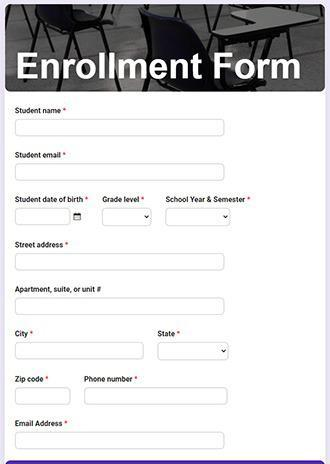dropdown: (158, 342, 230, 363), (165, 207, 232, 227), (101, 207, 154, 229)
icon: (74, 212, 84, 223)
input: (15, 252, 225, 273), (15, 297, 227, 317), (15, 431, 226, 451), (15, 163, 226, 182), (16, 119, 226, 137), (84, 387, 228, 406), (15, 341, 145, 361), (15, 208, 71, 228), (15, 387, 72, 406)
label: (165, 195, 253, 205), (14, 196, 92, 207), (15, 286, 102, 295), (15, 418, 70, 430), (13, 151, 68, 161), (15, 107, 69, 117), (16, 241, 70, 251), (102, 196, 147, 205), (85, 376, 139, 383), (15, 376, 50, 384), (158, 329, 182, 338), (15, 329, 33, 339)
